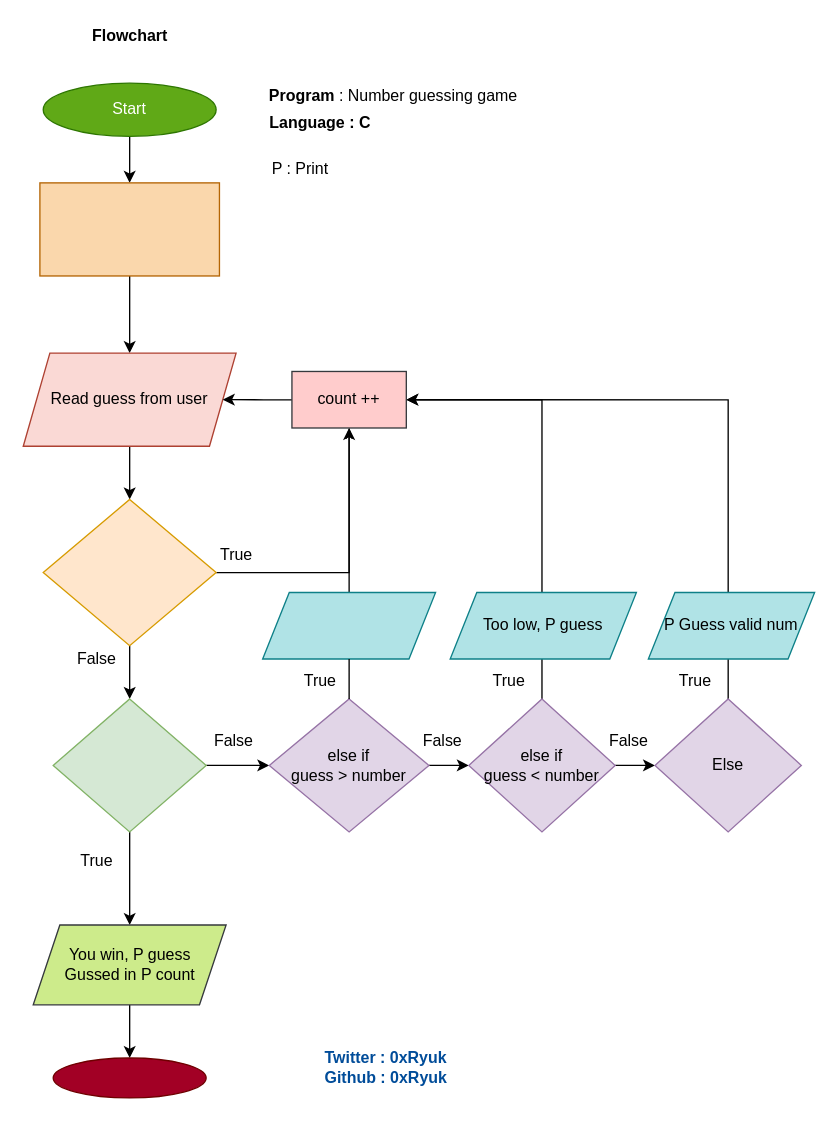
Some shapes in this 838 by 1121 pixel diagram are drawn without their labels. The shapes that lost their labels are listed below. From the top down, each one's box as (x1, y1, x2, y2) in pixels, then its label:
(39, 182, 219, 276): int number = assigned random number (1-100), count = 1, guess;
(42, 498, 216, 646): if guess >100 OR guess <= 0
(261, 591, 436, 659): Too high, P guess
(52, 698, 206, 832): else if guess = number
(52, 1057, 206, 1098): Stop
